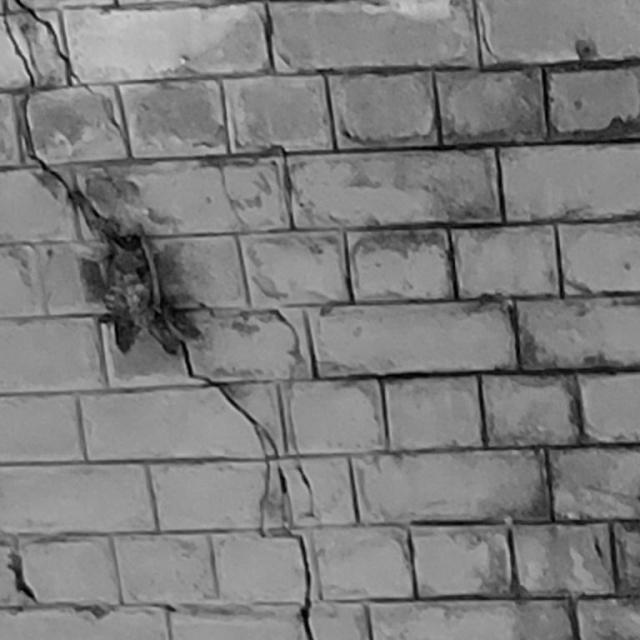crack: (3, 1, 314, 639)
